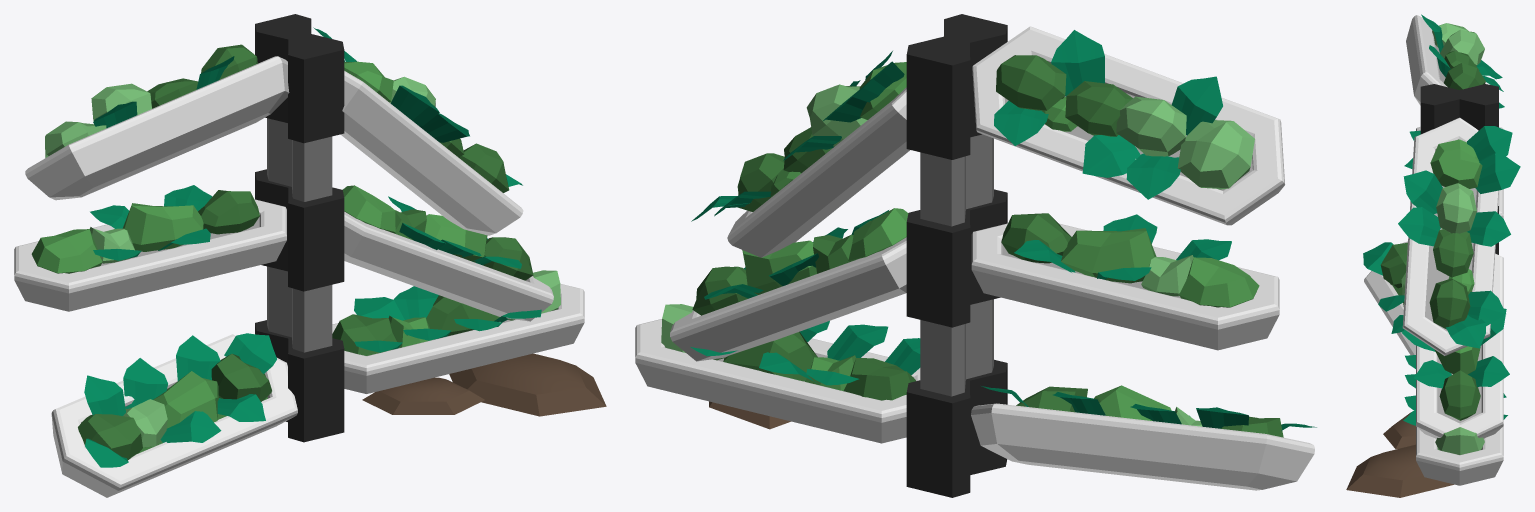
The model's file is Destroyed_plant_farm_002.fbx.
The picture shows the model from 3 angles, left to right: view 1: azimuth 30°, elevation 25°; view 2: azimuth 150°, elevation 25°; view 3: azimuth 270°, elevation 25°; orthographic projection. The views are drawn at different scales.
Visible parts, largest first — view 1: polySurface2679, polySurface2731, polySurface2730, polySurface2690, polySurface2693, polySurface2725, polySurface2729, pCylinder7, polySurface2701, polySurface2726, polySurface2700, polySurface2704 (+34 smaller); view 2: polySurface2693, polySurface2731, polySurface2679, polySurface2690, polySurface2725, polySurface2730, polySurface2729, polySurface2726, polySurface2701, polySurface2700, polySurface2704, polySurface2676 (+33 smaller); view 3: polySurface2730, polySurface2725, polySurface2690, polySurface2729, pCylinder7, polySurface2743, polySurface2679, polySurface2708, polySurface2749, polySurface2707, polySurface2698, polySurface2753 (+27 smaller).
Part boxes in pixels (bbox=[...]): polySurface2679: bbox=[25, 56, 289, 200]; polySurface2731: bbox=[14, 199, 286, 311]; polySurface2730: bbox=[340, 71, 523, 235]; polySurface2690: bbox=[332, 283, 584, 393]; polySurface2693: bbox=[51, 334, 297, 497]; polySurface2725: bbox=[344, 211, 553, 321]; polySurface2729: bbox=[255, 14, 344, 143]; pCylinder7: bbox=[449, 353, 606, 416]; polySurface2701: bbox=[255, 169, 344, 291]; polySurface2726: bbox=[255, 320, 344, 442]; polySurface2700: bbox=[267, 266, 332, 352]; polySurface2704: bbox=[267, 118, 332, 201]; polySurface2693: bbox=[971, 403, 1314, 490]; polySurface2731: bbox=[971, 223, 1279, 350]; polySurface2679: bbox=[972, 26, 1285, 225]; polySurface2690: bbox=[635, 319, 920, 443]; polySurface2725: bbox=[670, 237, 906, 361]; polySurface2730: bbox=[727, 87, 909, 257]; polySurface2729: bbox=[906, 14, 1007, 159]; polySurface2726: bbox=[906, 359, 1007, 497]; polySurface2701: bbox=[906, 189, 1007, 327]; polySurface2700: bbox=[920, 299, 993, 396]; polySurface2704: bbox=[920, 134, 993, 226]; polySurface2676: bbox=[1177, 120, 1254, 189]; polySurface2730: bbox=[1402, 117, 1498, 355]; polySurface2725: bbox=[1416, 253, 1503, 438]; polySurface2690: bbox=[1416, 426, 1503, 485]; polySurface2729: bbox=[1420, 84, 1498, 133]; pCylinder7: bbox=[1346, 444, 1453, 497]; polySurface2743: bbox=[1430, 139, 1482, 188]; polySurface2679: bbox=[1406, 15, 1485, 105]; polySurface2708: bbox=[1436, 183, 1476, 233]; polySurface2749: bbox=[1429, 278, 1470, 329]; polySurface2707: bbox=[1433, 229, 1473, 277]; polySurface2698: bbox=[1439, 370, 1480, 420]; polySurface2753: bbox=[1475, 153, 1520, 193].
Size of the model in its own units: 3.34 by 2.23 by 1.1.
